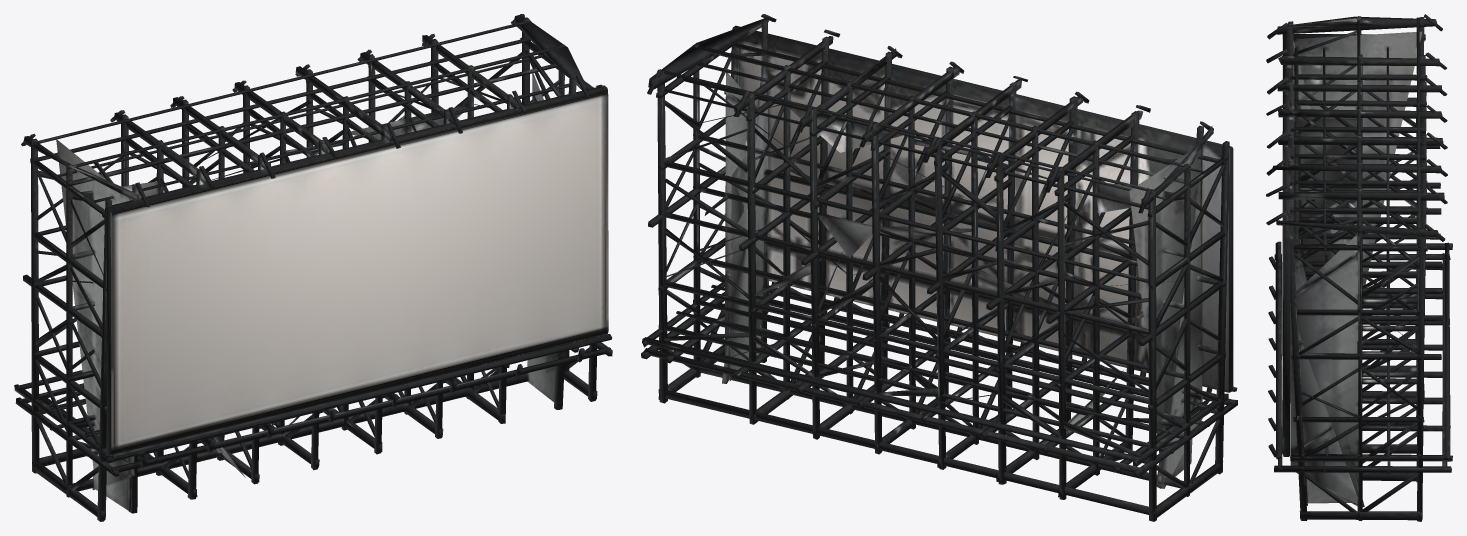
The model's file is billboard.glb.
3 renders of one model, left to right at view 1: azimuth 30°, elevation 25°; view 2: azimuth 150°, elevation 25°; view 3: azimuth 270°, elevation 25°, orthographic. The views are drawn at different scales.
Size of the model in its own units: 1 by 0.6529 by 0.3696.
1 material, 1 textured.
